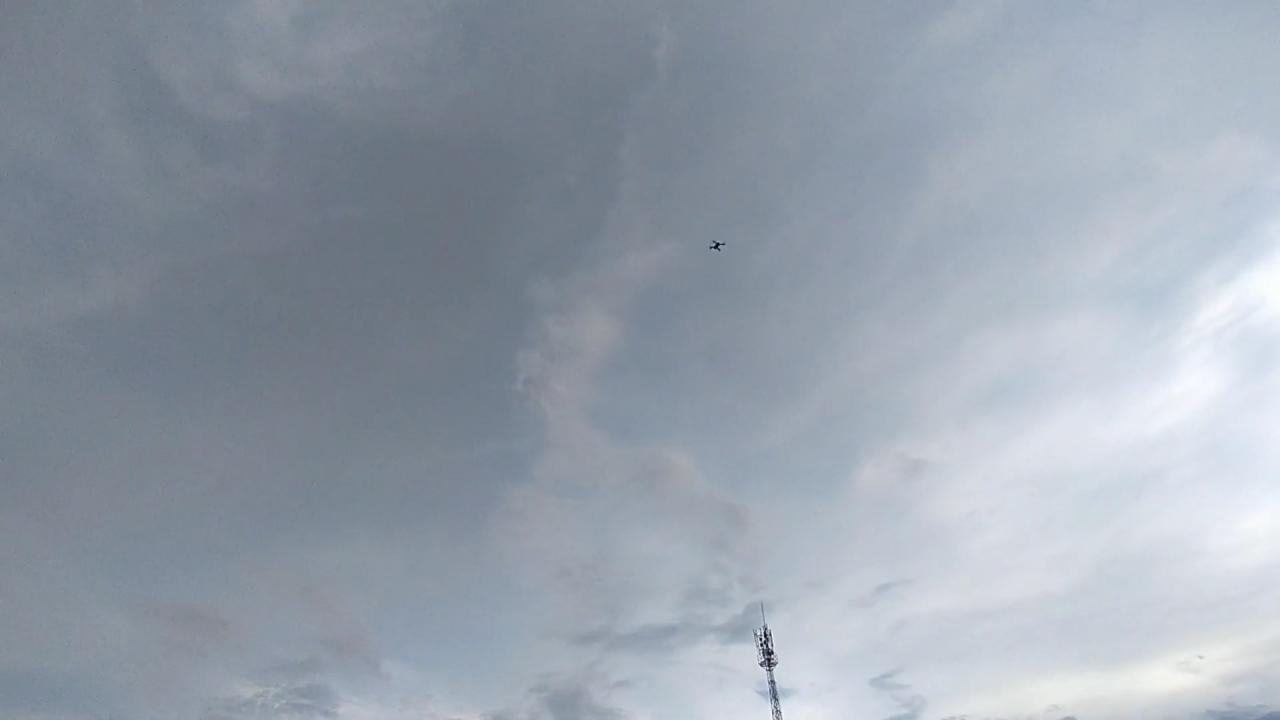Drone: (698, 231, 734, 262)
